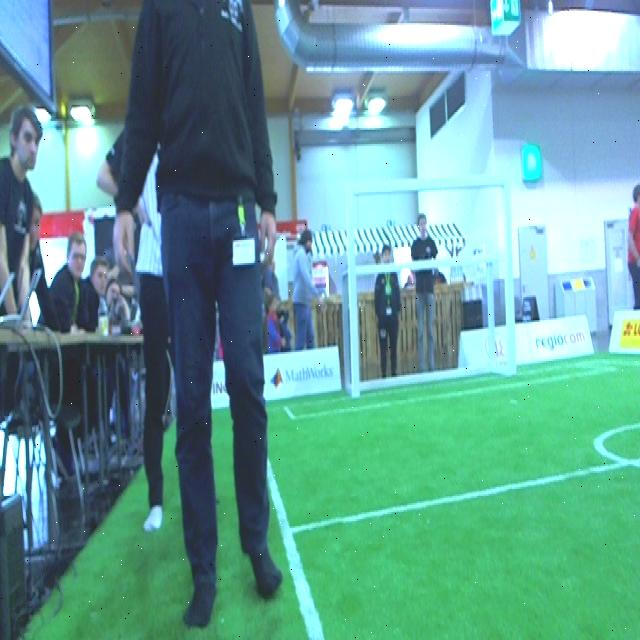goalpost: (344, 178, 362, 404), (504, 171, 520, 377)
